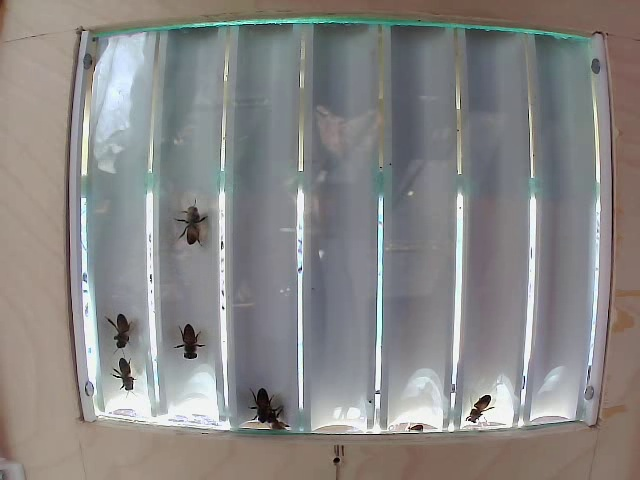bee: (173, 198, 218, 252), (248, 375, 282, 434), (99, 356, 143, 398), (101, 310, 136, 360), (168, 324, 209, 366), (463, 386, 504, 426)
